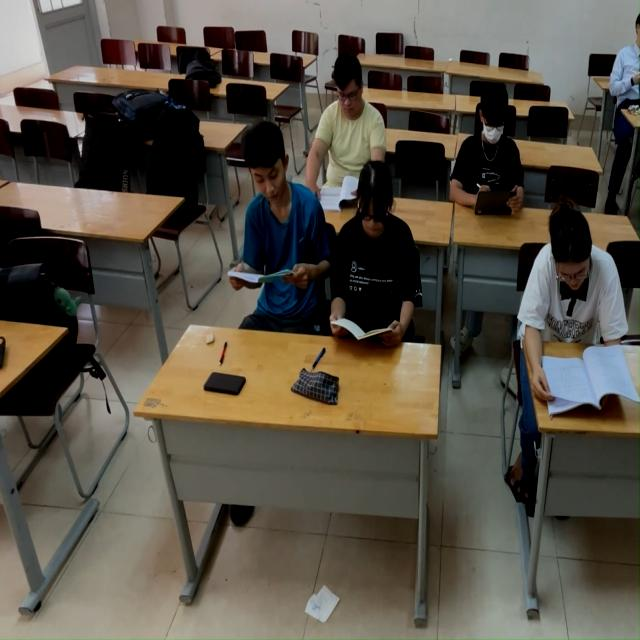read: (515, 200, 640, 425), (234, 121, 324, 383), (328, 167, 429, 376), (445, 76, 534, 227), (314, 53, 364, 211)
